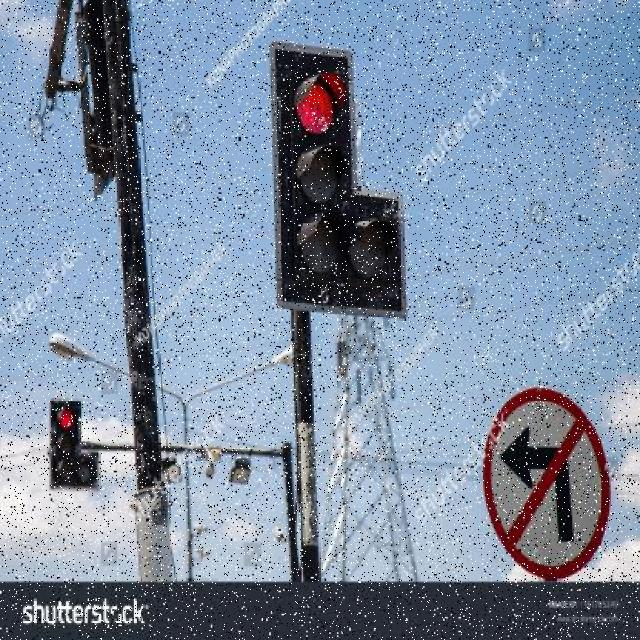red-light: (270, 38, 364, 303), (46, 396, 90, 487)
